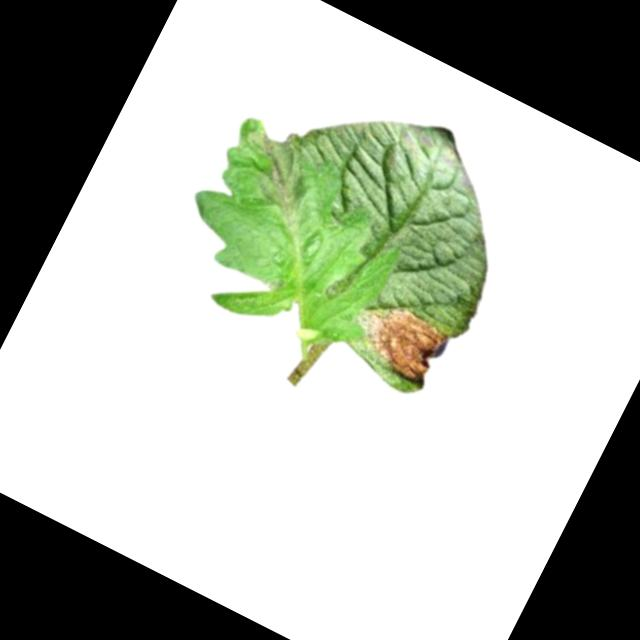Late_blight: (346, 292, 455, 391), (224, 121, 325, 219)
